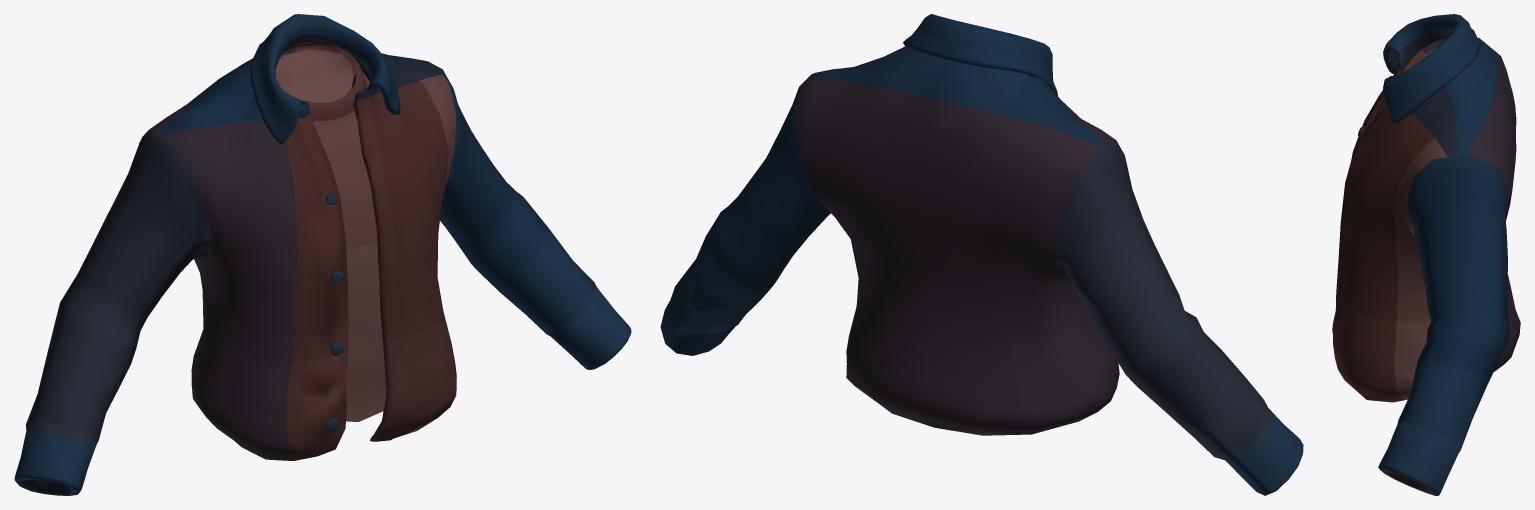
File: cloth06.glb
The picture shows the model from 3 angles, left to right: view 1: azimuth 30°, elevation 25°; view 2: azimuth 150°, elevation 25°; view 3: azimuth 270°, elevation 25°; orthographic projection. The views are drawn at different scales.
Parts seen in each view (by area): view 1: Top; view 2: Top; view 3: Top.
Boxes of the visible parts, x1,y1,x2,y2 form: Top: (14,14,631,495); Top: (660,14,1303,495); Top: (1332,14,1520,495).
Size of the model in its own units: 1.97 by 1.24 by 0.5956.
Materials: 1 (1 with a texture image).
